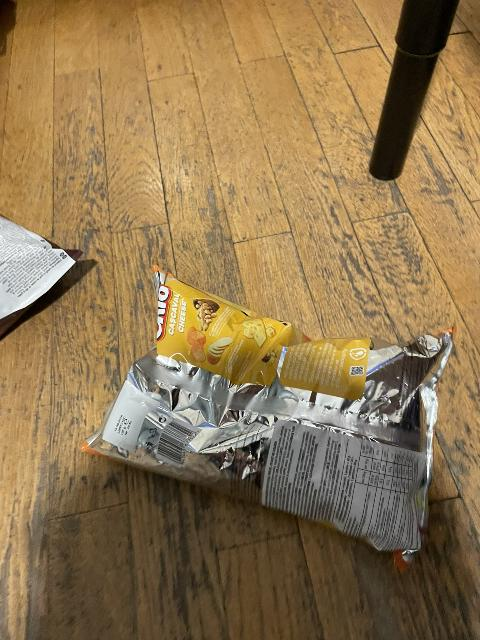Chio Cascaval 125g: (79, 265, 451, 561)
